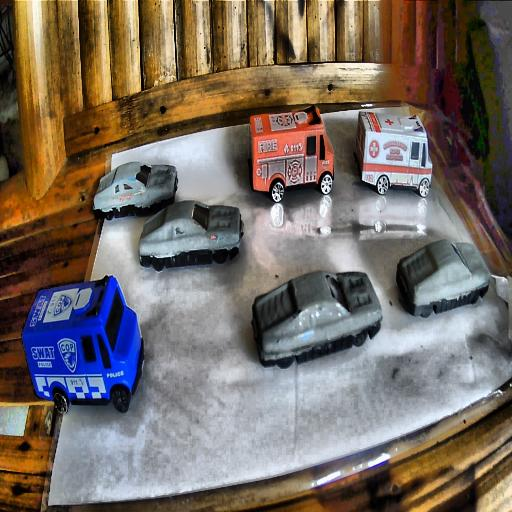ambulance: (355, 108, 433, 198)
fire_truck: (249, 106, 333, 203)
normal_car: (252, 270, 382, 368), (138, 198, 242, 270), (396, 239, 490, 318), (93, 159, 179, 222)
police car: (22, 274, 144, 414)
